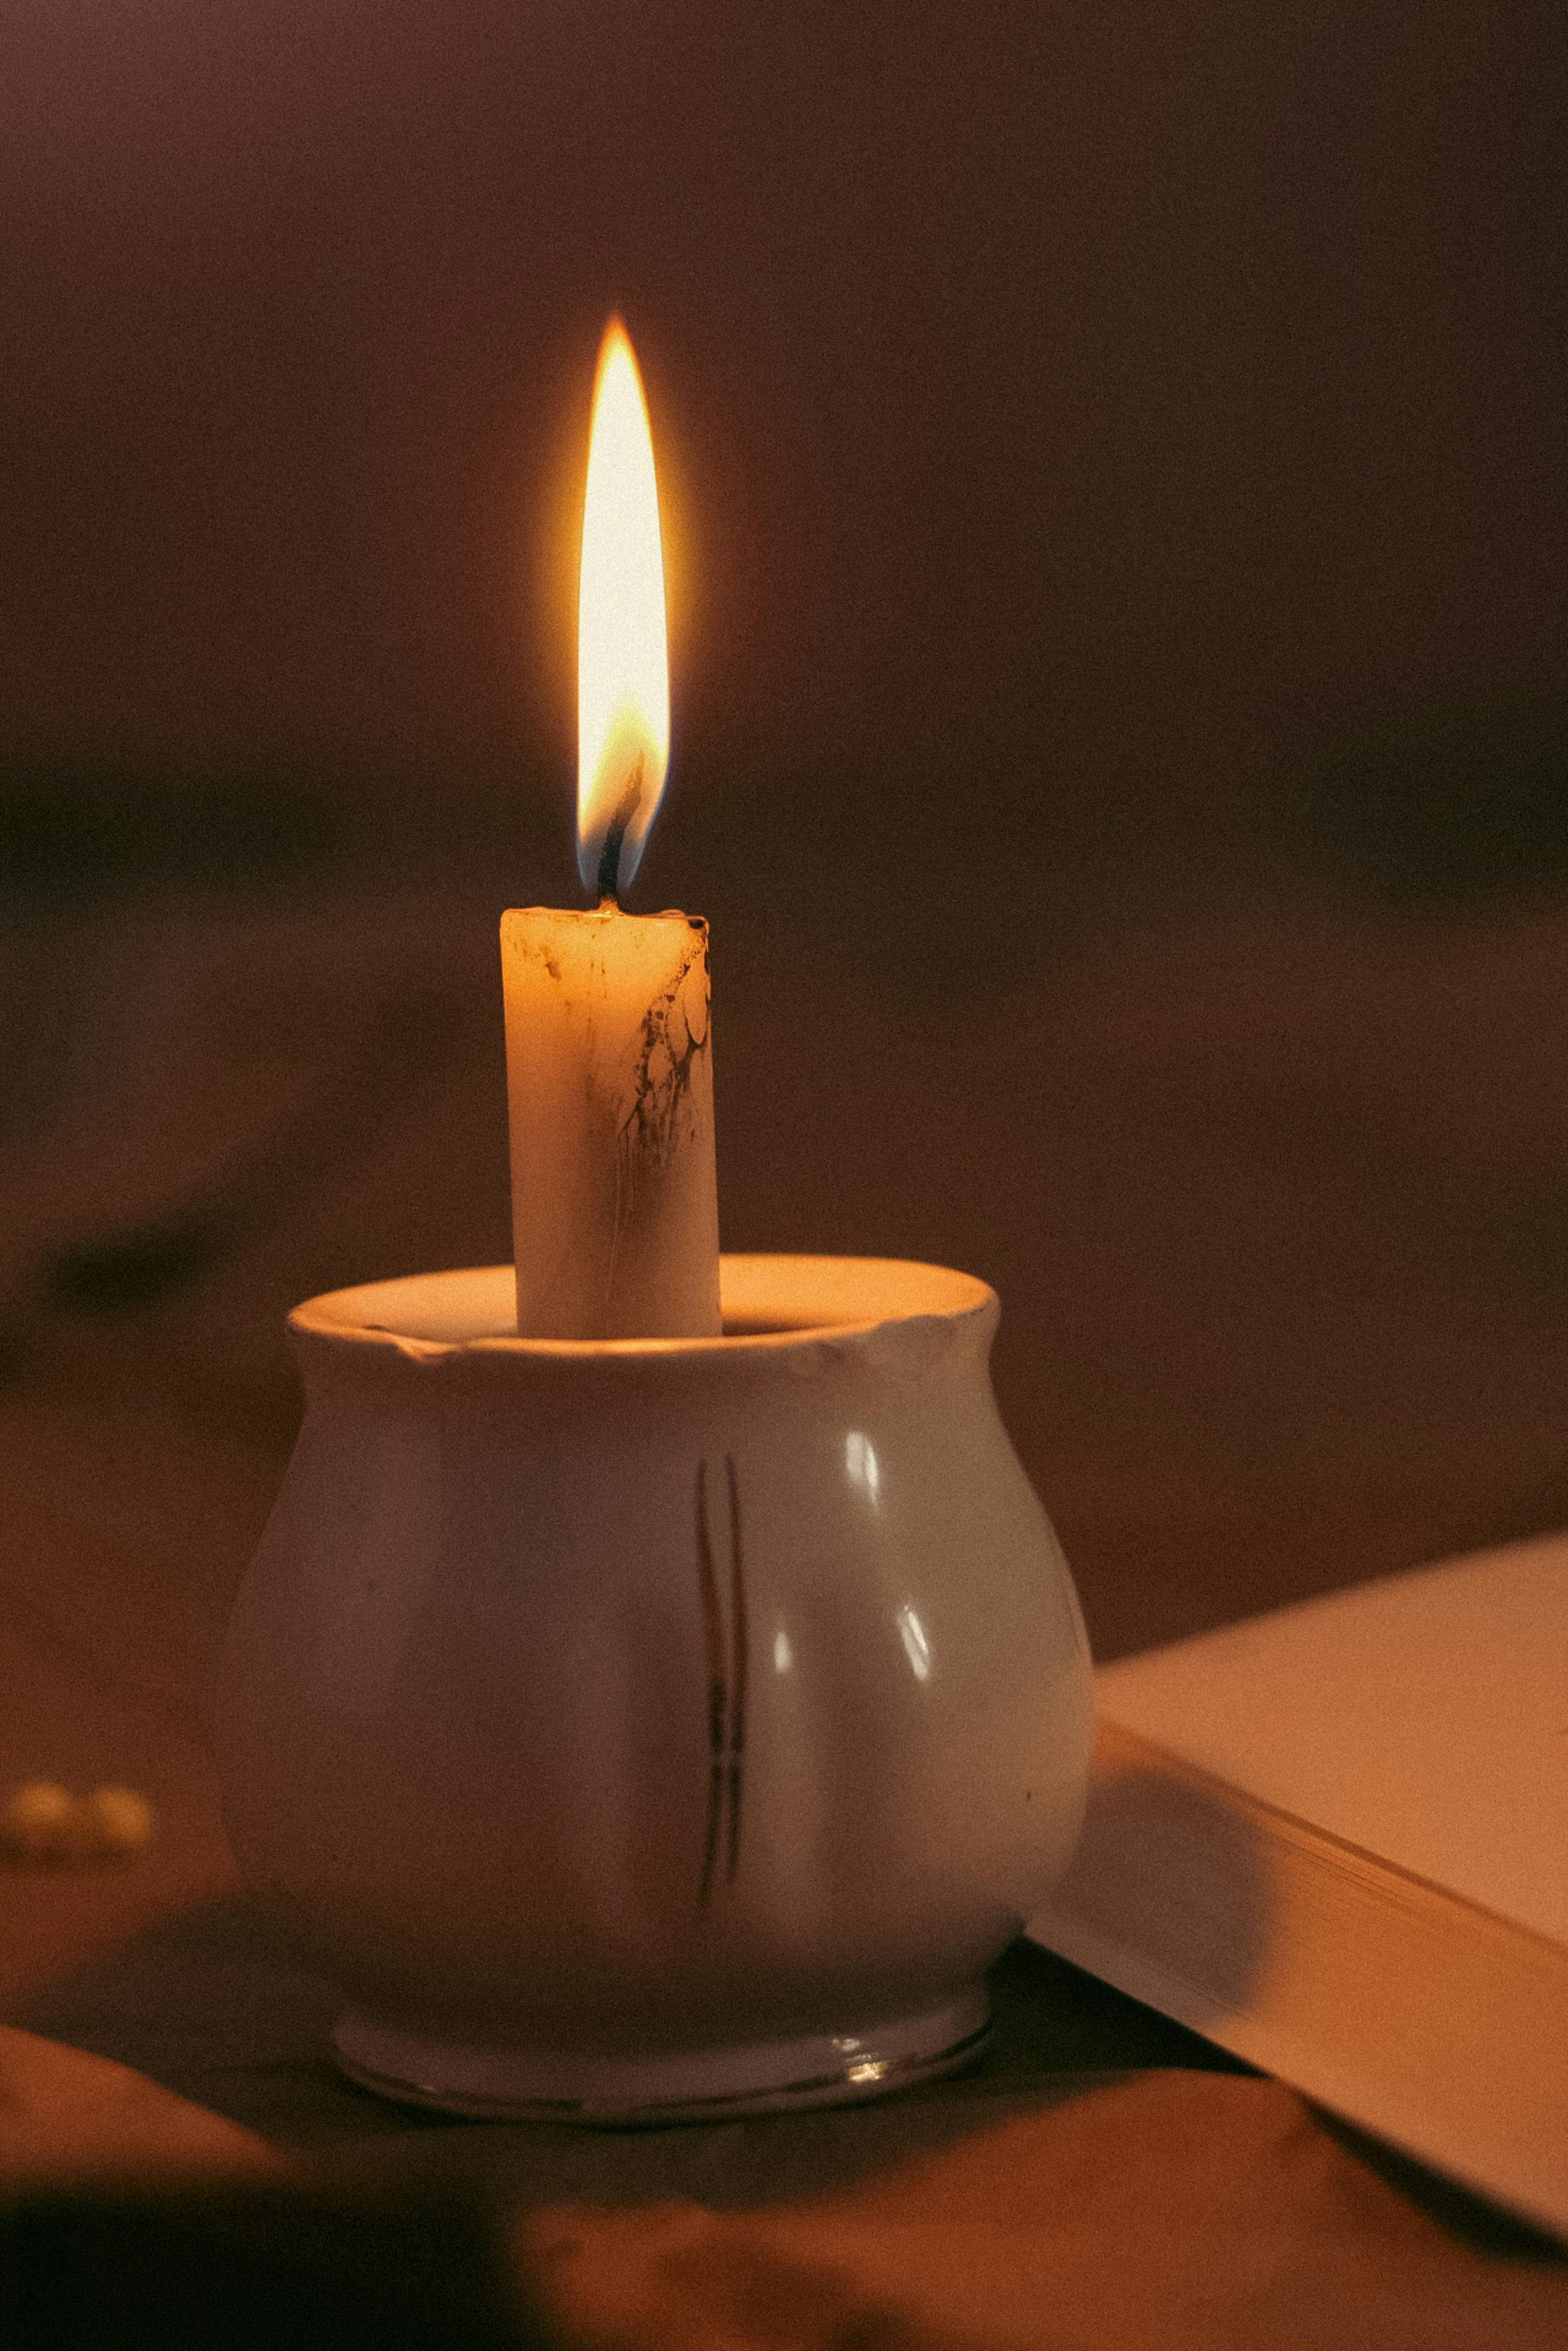Fire: (539, 292, 700, 910)
